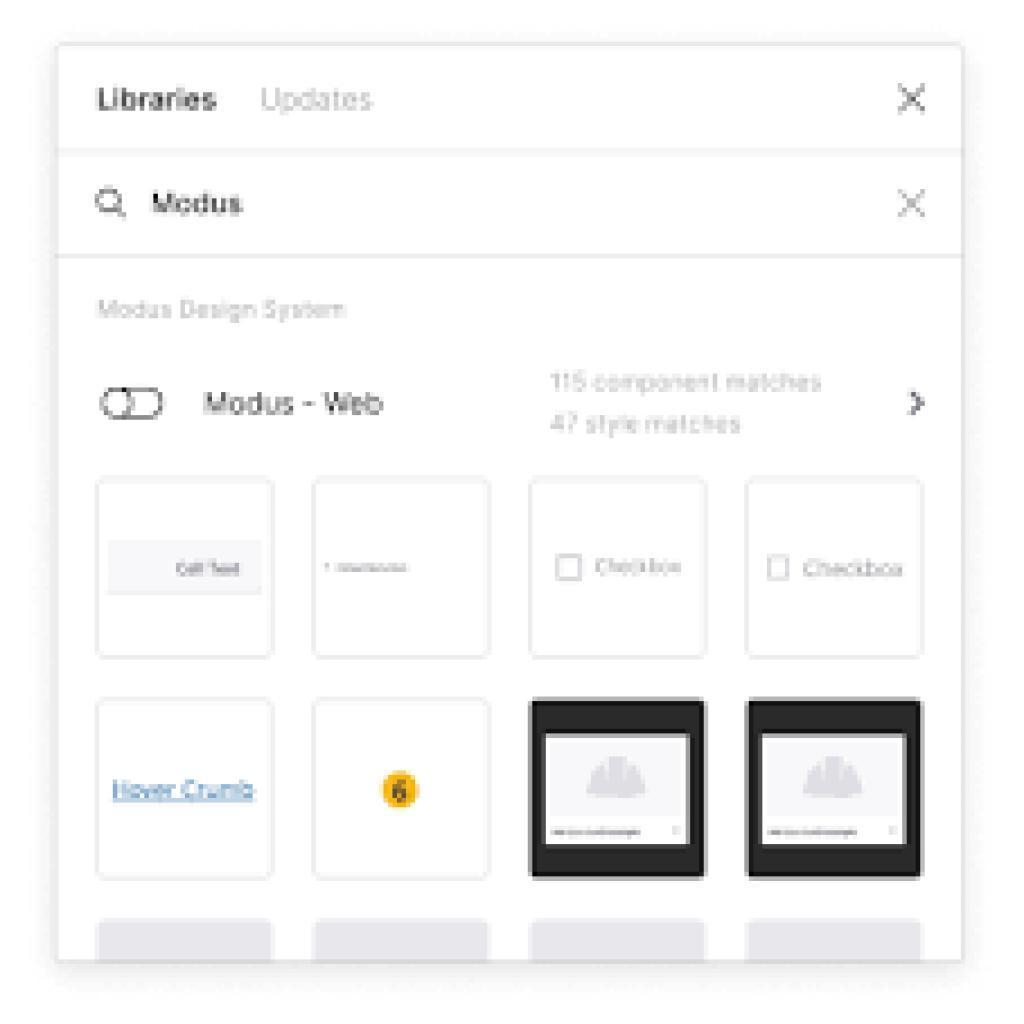checkbox: (558, 554, 584, 582), (769, 557, 790, 584)
icon: (94, 180, 134, 229), (892, 78, 935, 122), (901, 385, 936, 423), (895, 188, 929, 224)
switch: (100, 387, 169, 424)
